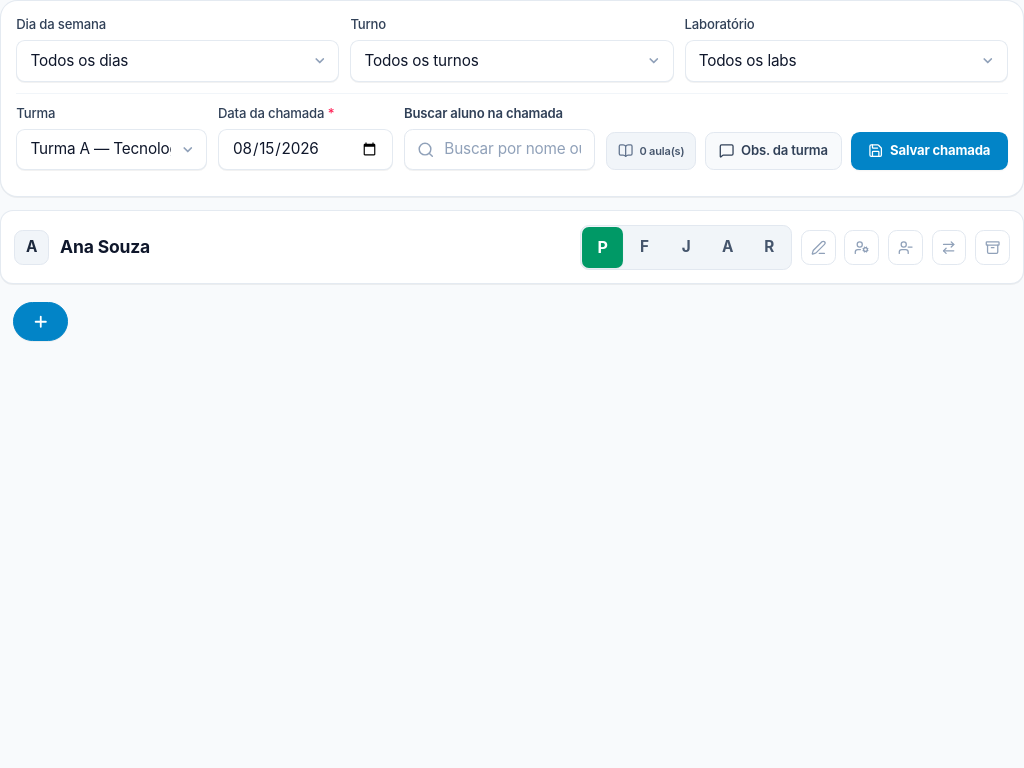
Test: AttendancePage › searches the unenrolled student list when adding a student to the class
Check: the text "Ana Souza" is shown, box [60,234,150,261]
Select "Turma A — Tecnologia" in the dropdown labelled "Turma" at point(112, 149), box [16,129,207,170]
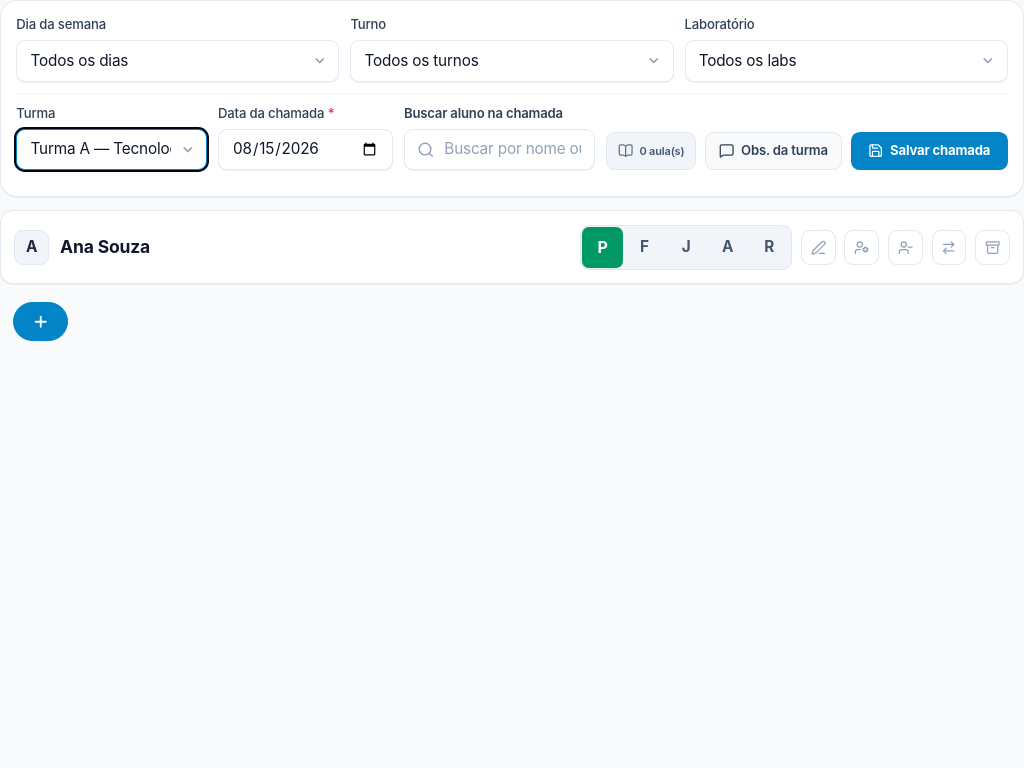
Click the button named "Incluir aluno na turma" at point(40, 322), box [13,302,68,341]
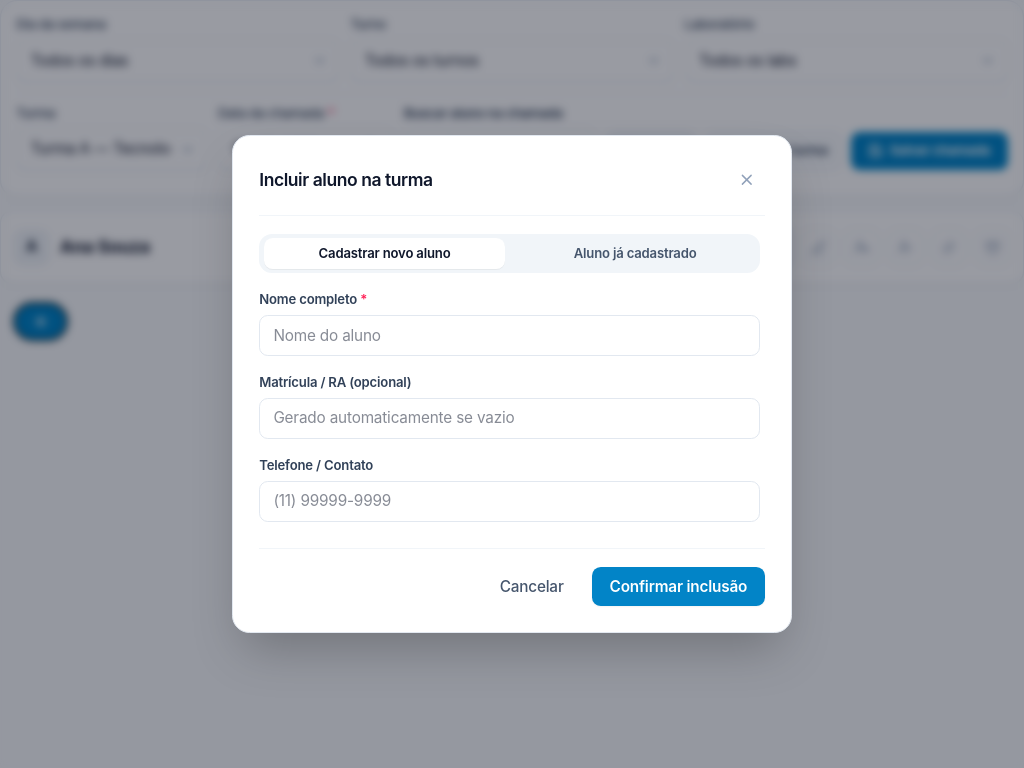
Click the button "Aluno já cadastrado" at point(635, 254), box [514,238,756,269]
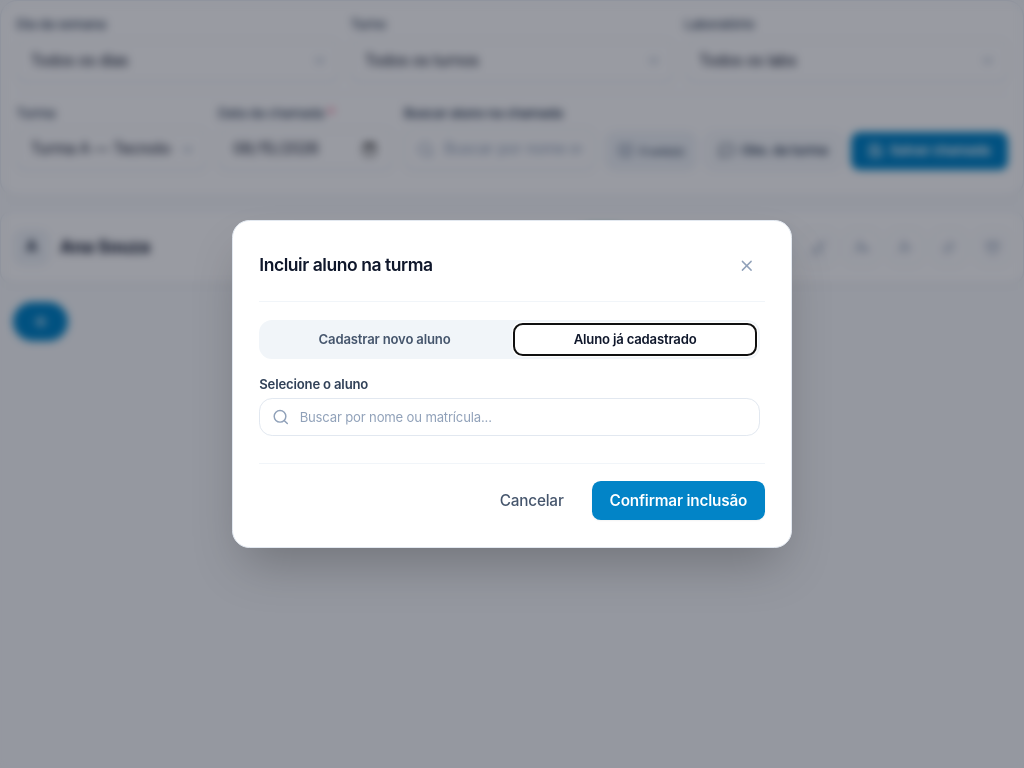
Type "002" into the dropdown with placeholder "Buscar por nome ou matrícula..." at point(510, 417), box [259,398,760,436]
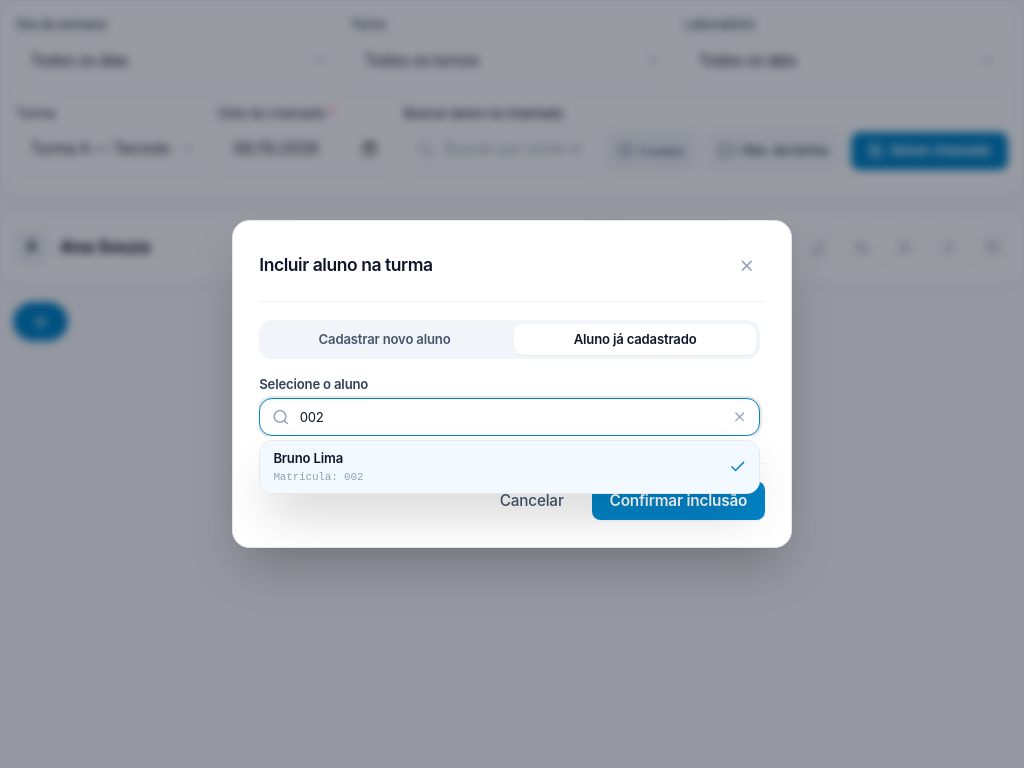
Check: the option "Bruno Lima Matrícula: 002" is shown, box [260,441,759,493]
